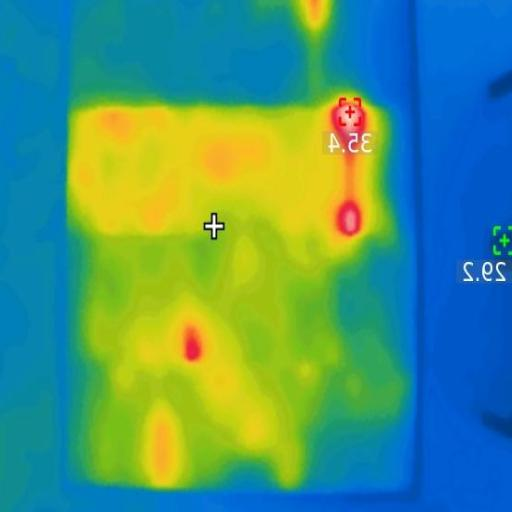hotspot: (326, 101, 368, 148), (333, 199, 364, 237), (180, 325, 206, 363)
